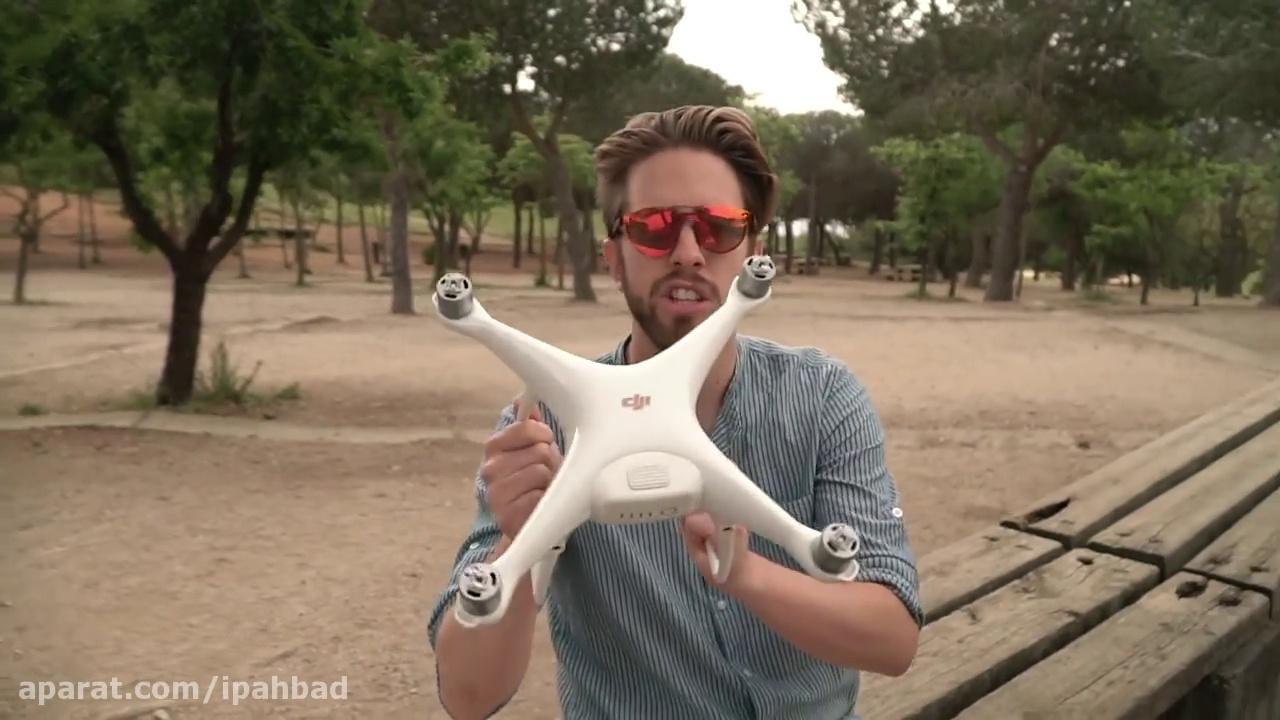drone: (429, 248, 864, 630)
